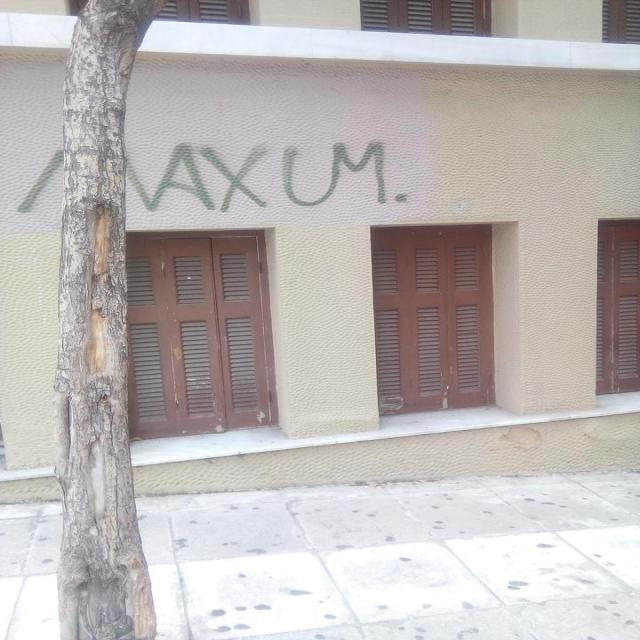nonspitting: (18, 143, 408, 214)
